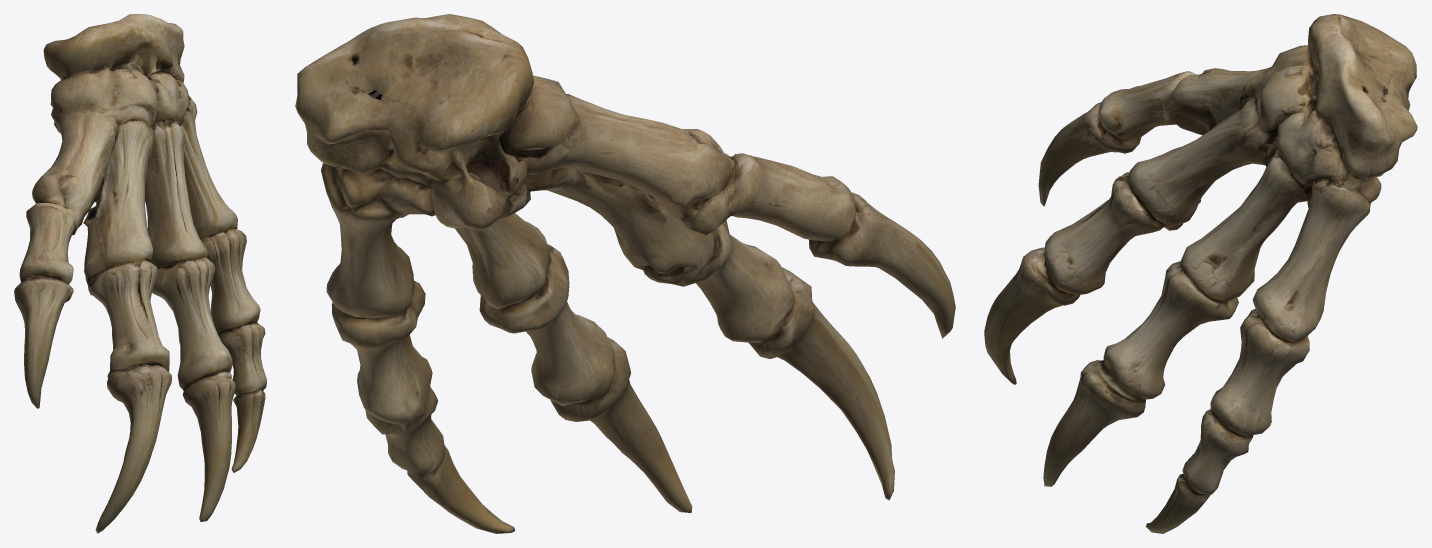
Rendered from raptors_grasp.glb.
3 renders of one model, left to right at view 1: azimuth 30°, elevation 25°; view 2: azimuth 150°, elevation 25°; view 3: azimuth 270°, elevation 25°, orthographic. The views are drawn at different scales.
Parts seen in each view (by area): view 1: Object_4; view 2: Object_4; view 3: Object_4.
Part boxes in pixels (x1,y1,x2,y2): Object_4: [14, 14, 266, 533]; Object_4: [295, 14, 955, 533]; Object_4: [984, 14, 1417, 533].
Bounding box in the file's own units: 1.61 × 1.99 × 1.64.
Materials: 1 (1 with a texture image).
